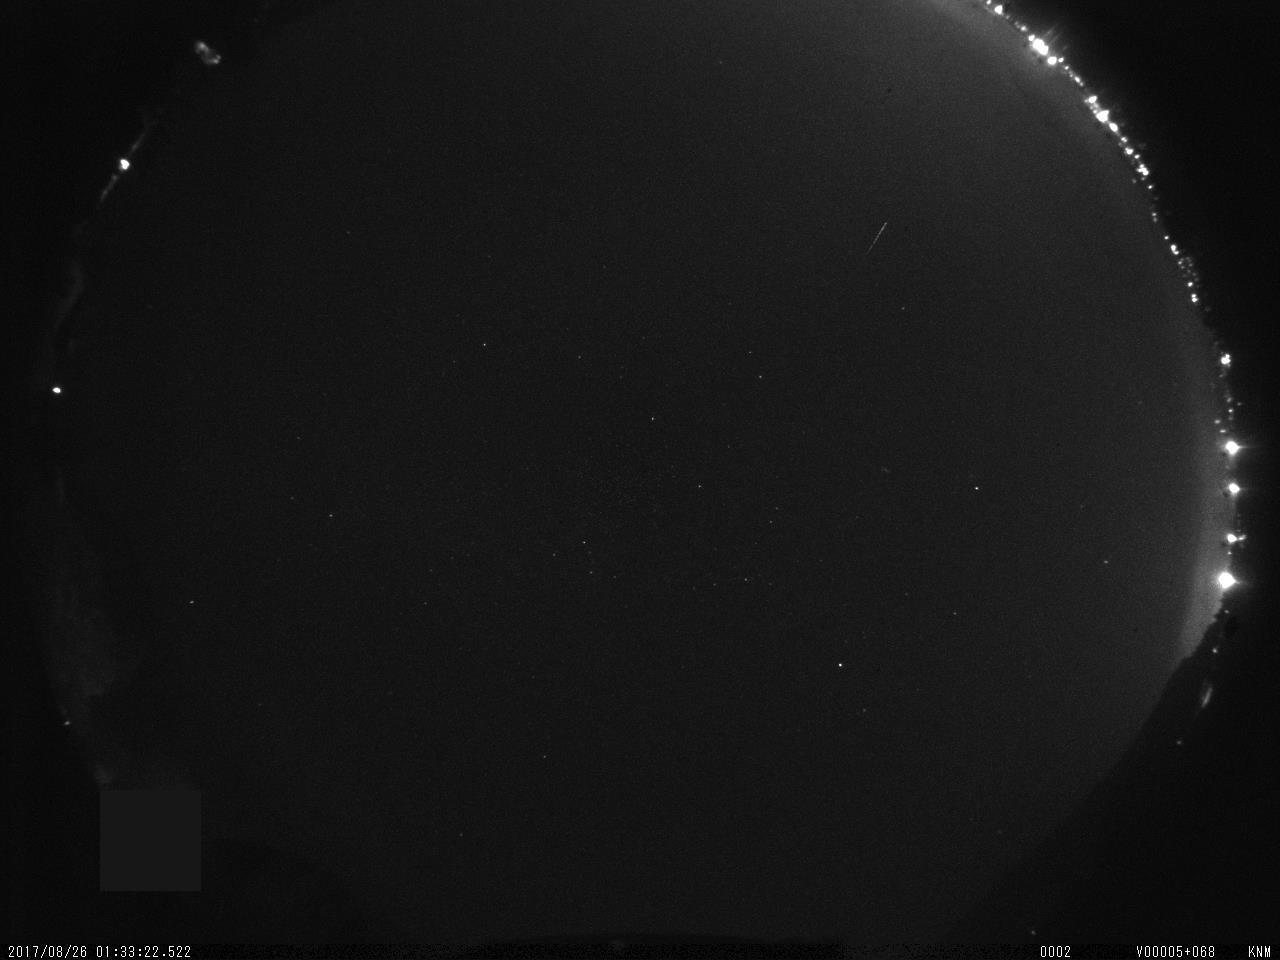Meteor: (865, 214, 893, 267)
